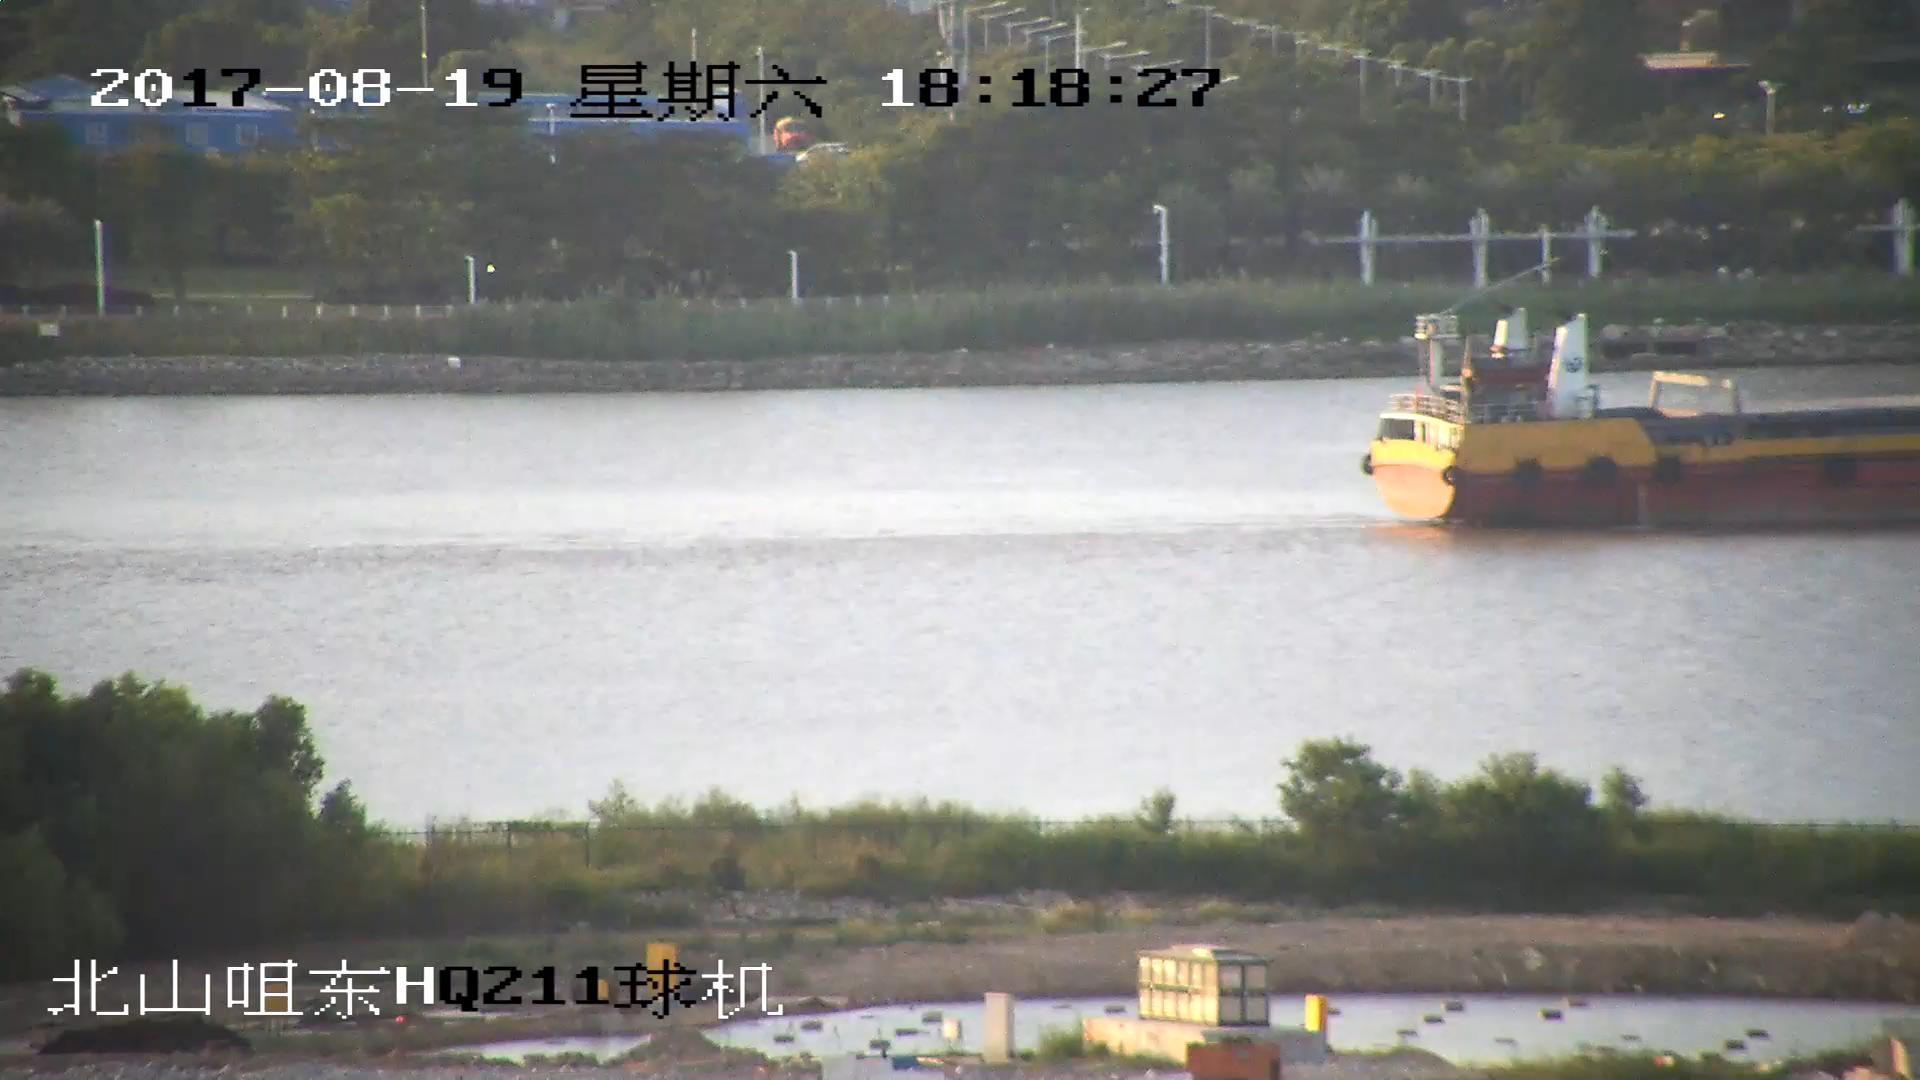Ship: (1369, 314, 1920, 518)
